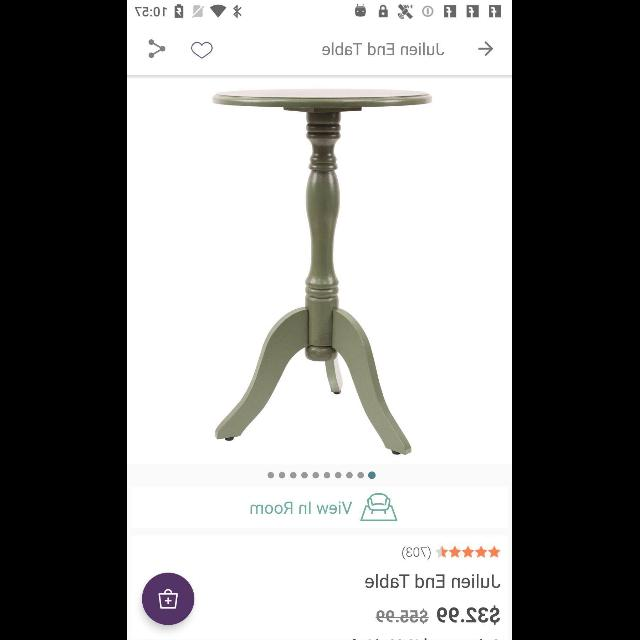icon: (142, 572, 195, 626), (436, 546, 502, 558), (192, 42, 214, 58), (150, 40, 167, 59), (478, 42, 494, 56)
image: (213, 88, 433, 456), (360, 493, 398, 521)
pageindicator: (268, 471, 377, 479)
text: (366, 574, 502, 588), (323, 42, 445, 56), (251, 502, 353, 514), (438, 606, 500, 624), (376, 608, 429, 624), (402, 546, 432, 560)
toolbar: (128, 27, 512, 75)
uppertaskbar: (128, 1, 512, 21)
